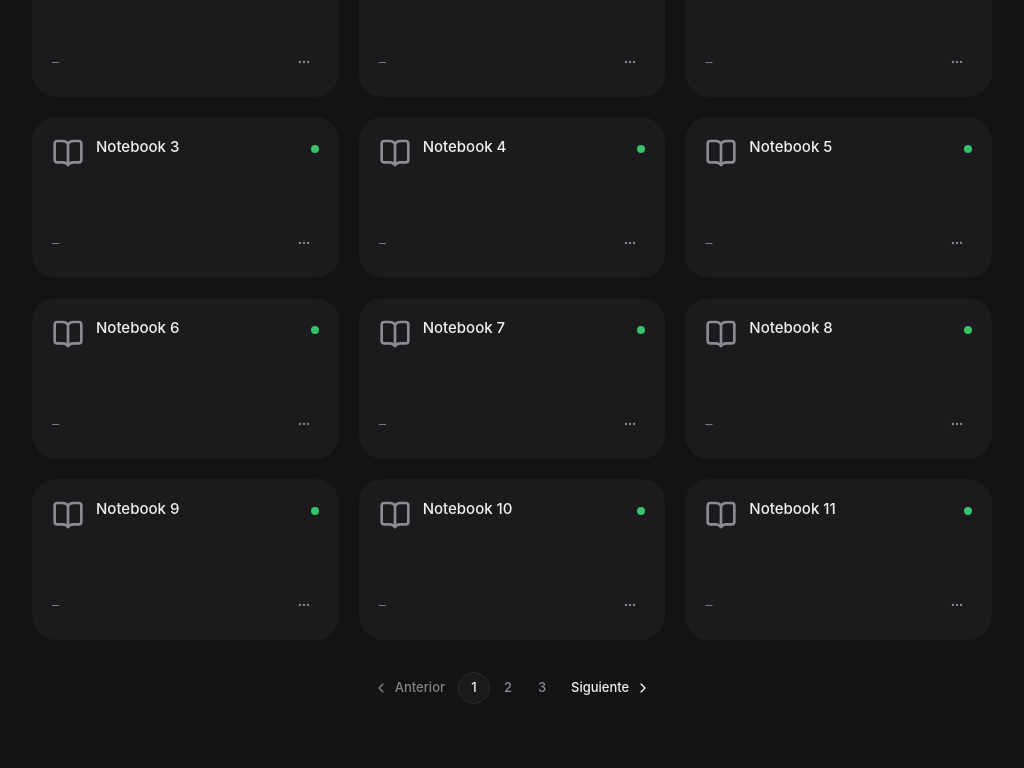
it: ir a la página 2 y volver por número
(page scrolled)
Click the link "2". click: (508, 687)
box: [504,679,512,695]
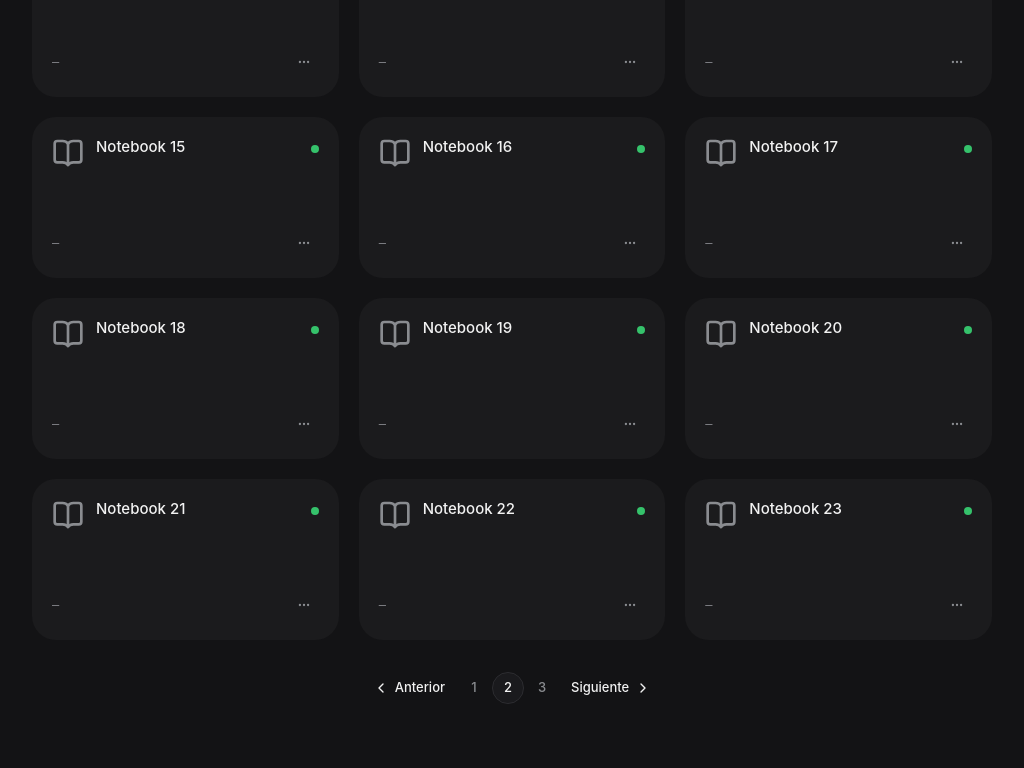
Click the link "1". click: (474, 687)
box: [471,679,477,695]
(page scrolled)
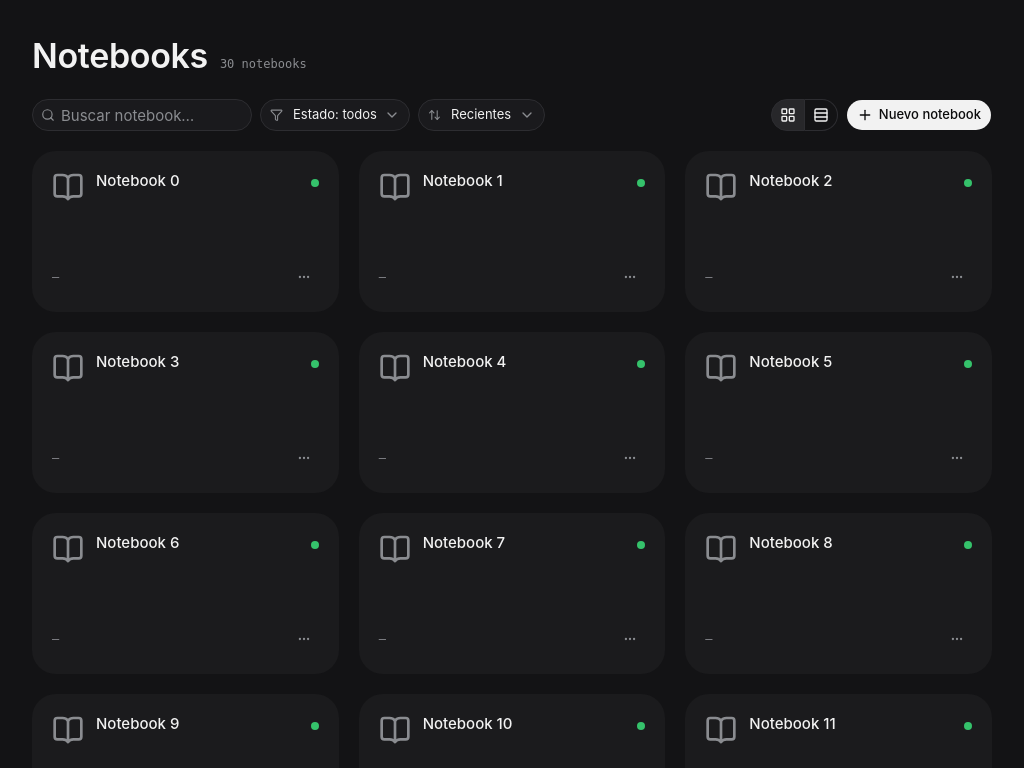
Now the text "Notebook 0" is shown, box [96,171,180,190]
